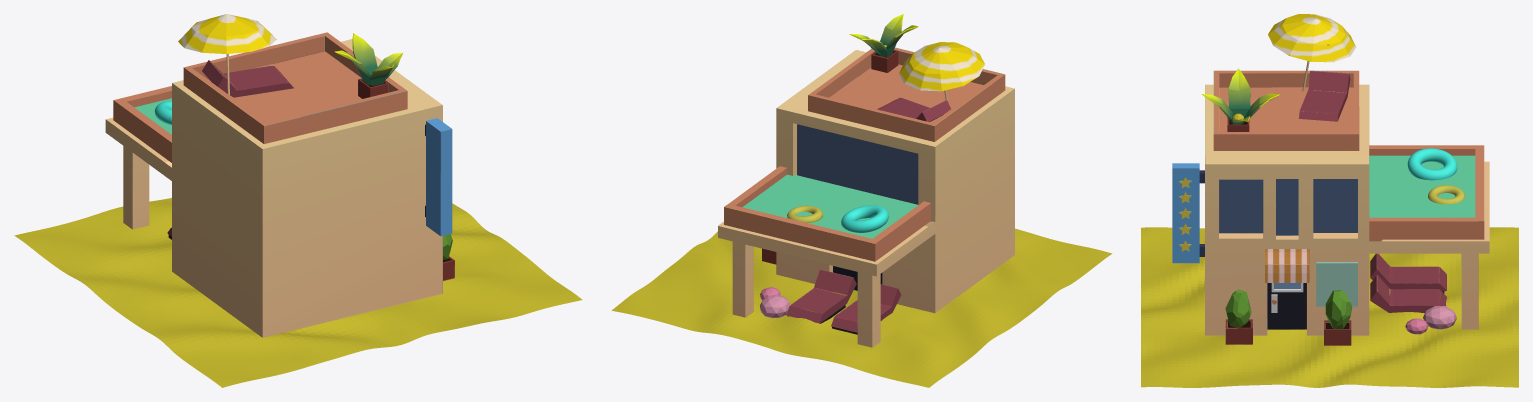
The picture shows the model from 3 angles, left to right: view 1: azimuth 30°, elevation 25°; view 2: azimuth 150°, elevation 25°; view 3: azimuth 270°, elevation 25°; orthographic projection. The views are drawn at different scales.
Visible parts, largest first — view 1: 房子本体, 平面; view 2: 房子本体, 平面; view 3: 房子本体, 平面.
Boxes of the visible parts, bbox=[...] form: 房子本体: bbox=[105, 14, 454, 337]; 平面: bbox=[14, 198, 582, 387]; 房子本体: bbox=[718, 14, 1014, 347]; 平面: bbox=[611, 228, 1112, 387]; 房子本体: bbox=[1172, 14, 1489, 345]; 平面: bbox=[1141, 227, 1518, 387].
Bounding box in the file's own units: 1304 × 979 × 1304.
Materials: 2 (1 with a texture image).
